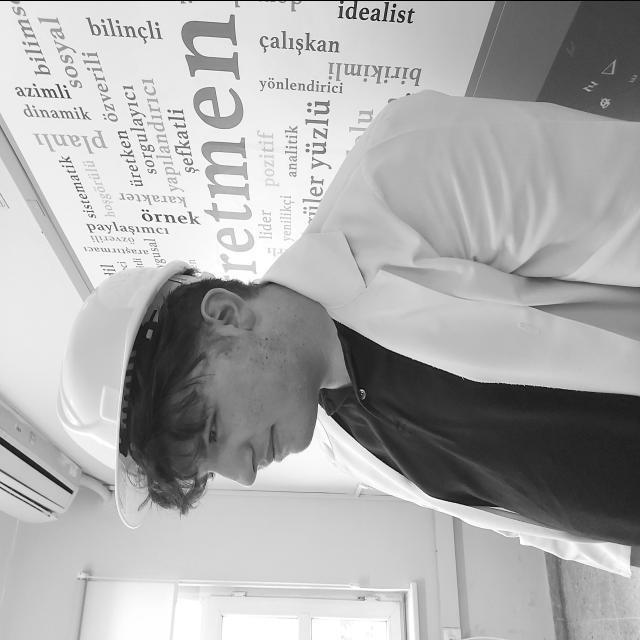safety_helmet: (60, 259, 190, 528)
